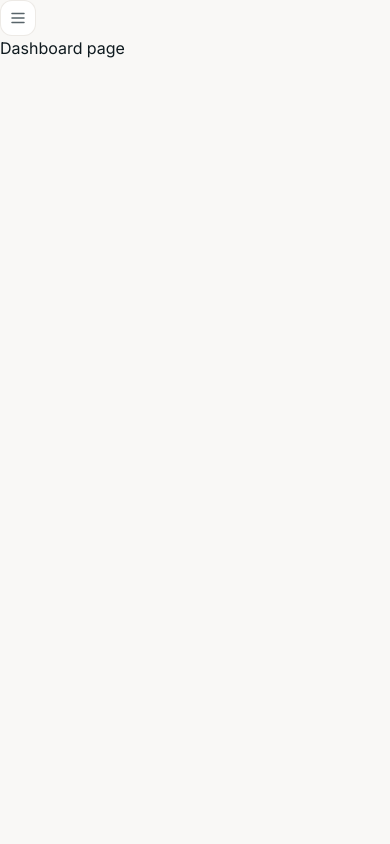
MobileMenu › navigue vers le lien cliqué et ferme le tiroir
Click the button named "ouvrir le menu" at (18, 18), box 0,0 -> 36,36
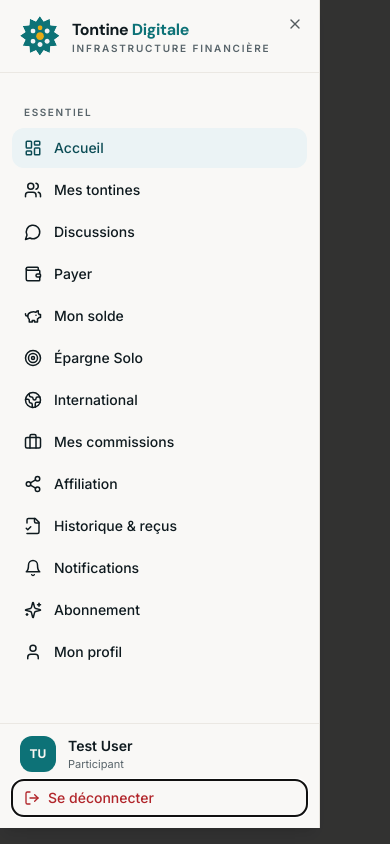
Click the link "Mon solde" at (74, 316), box 24,307 -> 124,325
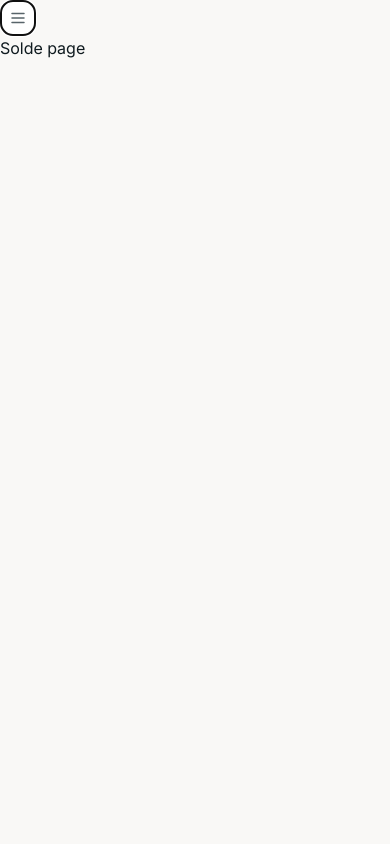
Expected: the text "Solde page" is shown, 0,38 -> 85,58
Expected: the link "Mon solde" is gone
